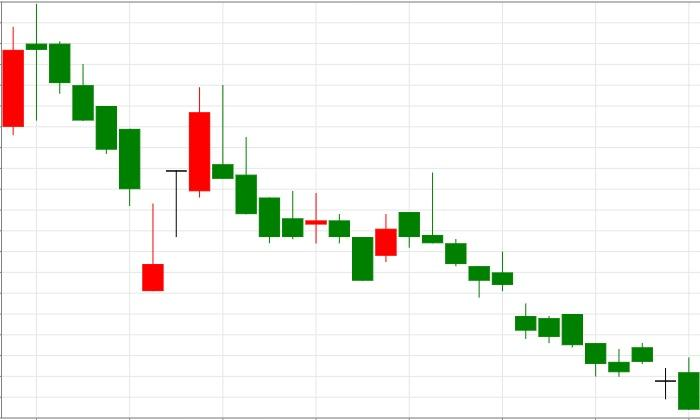inverse_hammer_rise: (26, 4, 164, 292)
